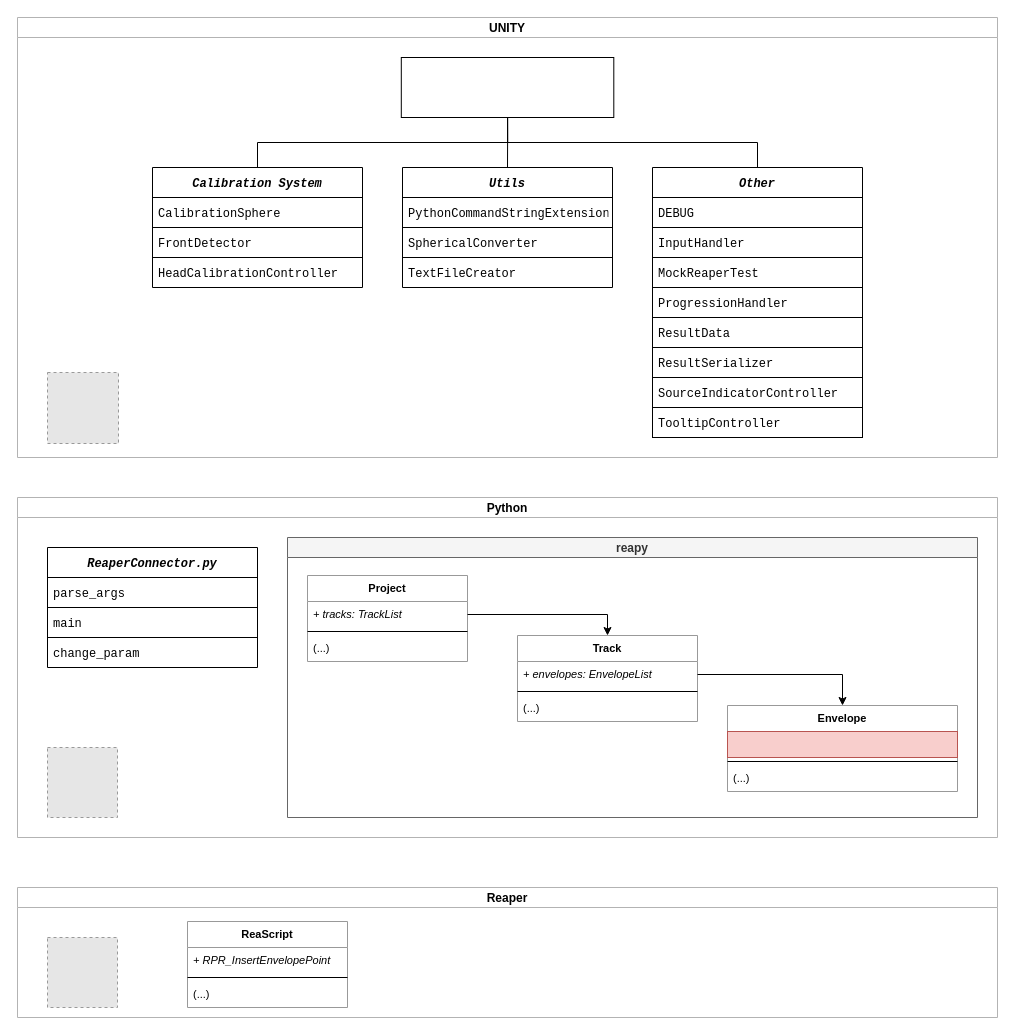
This 1015x1035 diagram has some shape labels left out. Grey dashed boxes stand in for pictures. The shapes that lost their labels are listed below. From the top down, each one's centre as x and y in pixels, then its label:
At point (507, 87): "Spatial Sound Interface files".
At point (842, 744): "+ insert_value()".
